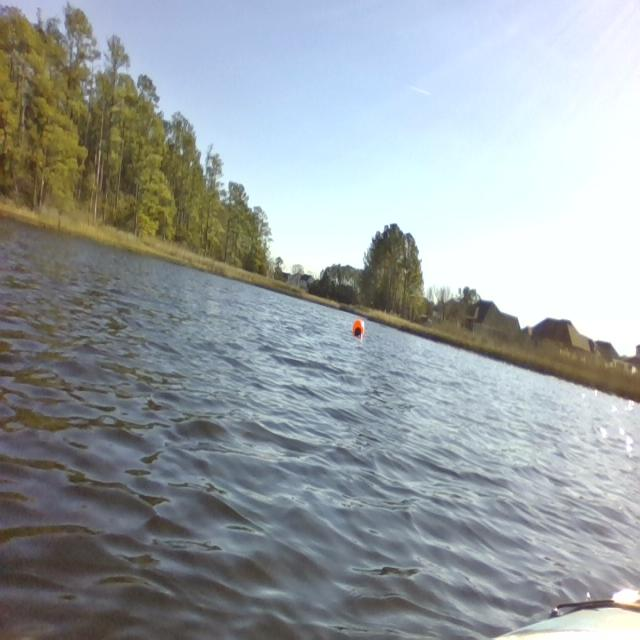Buoy: (352, 315, 368, 342)
